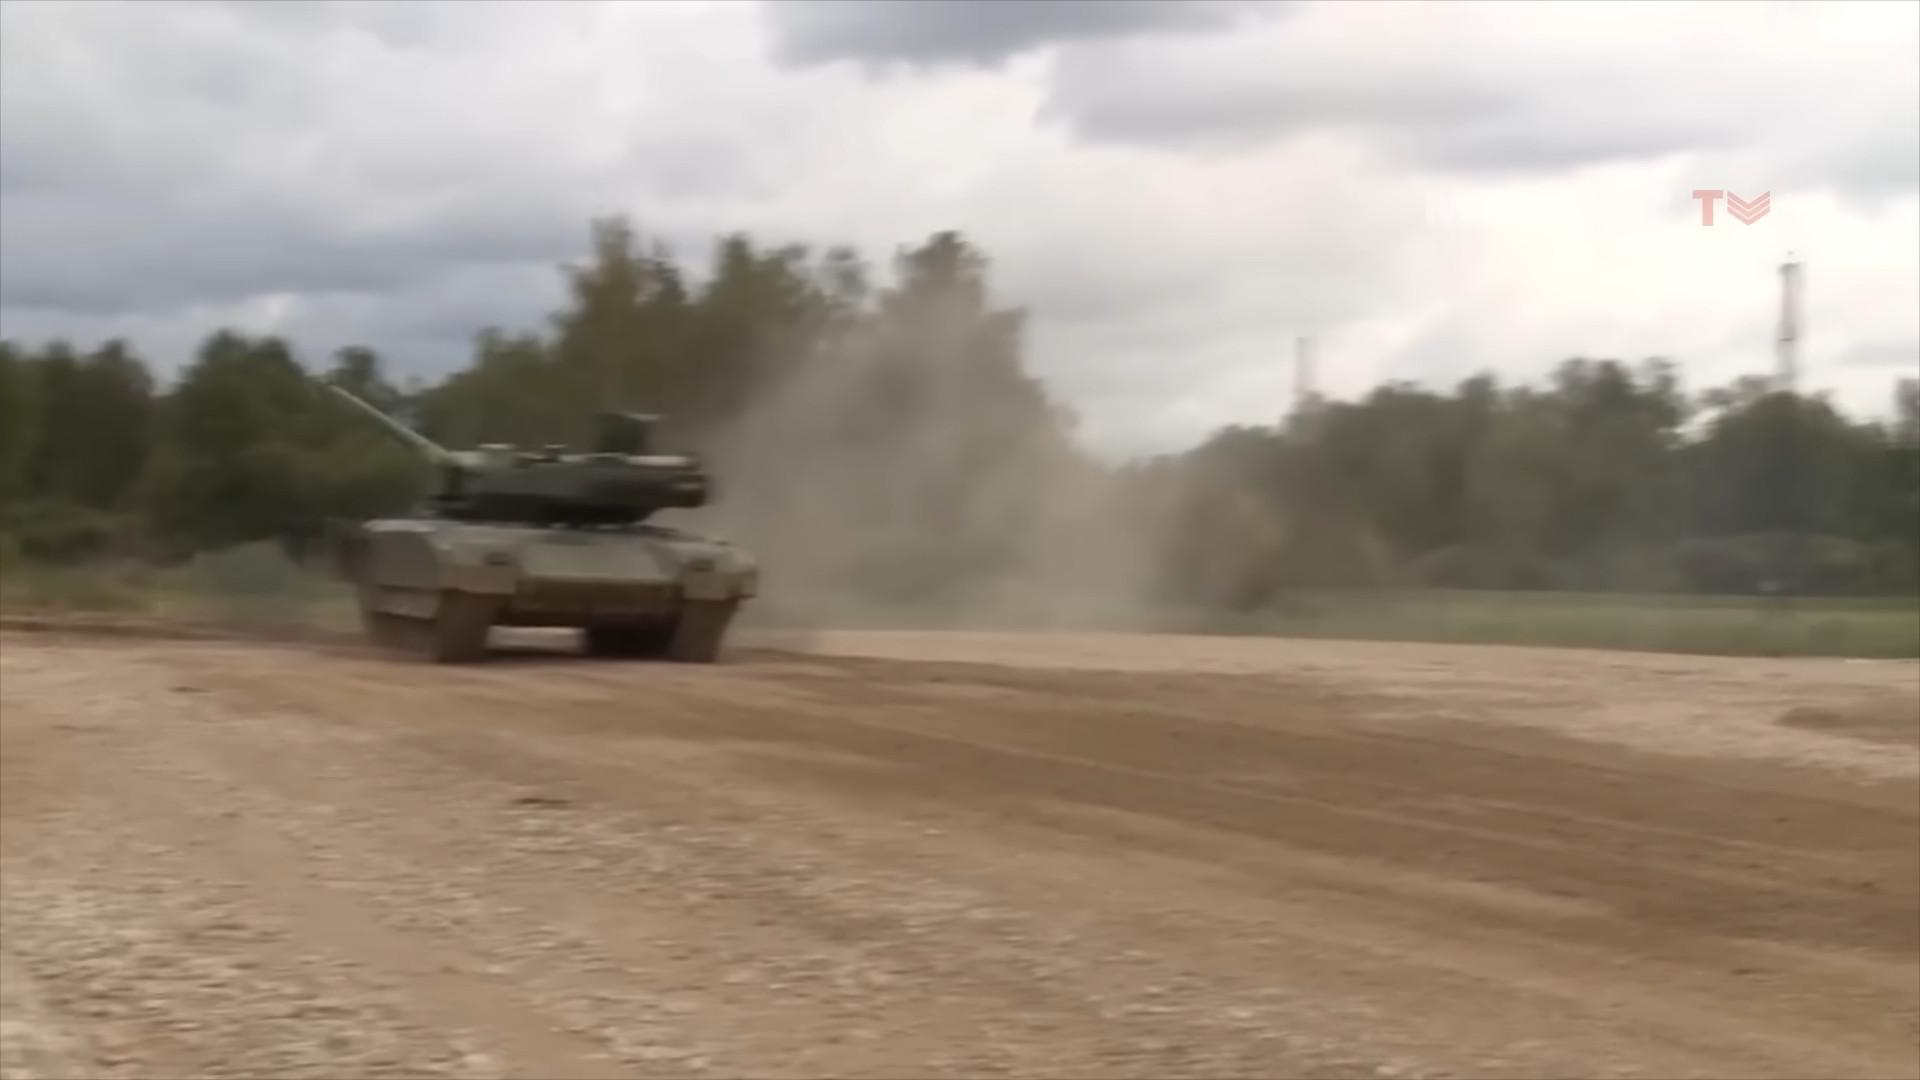tank: (320, 382, 758, 662)
